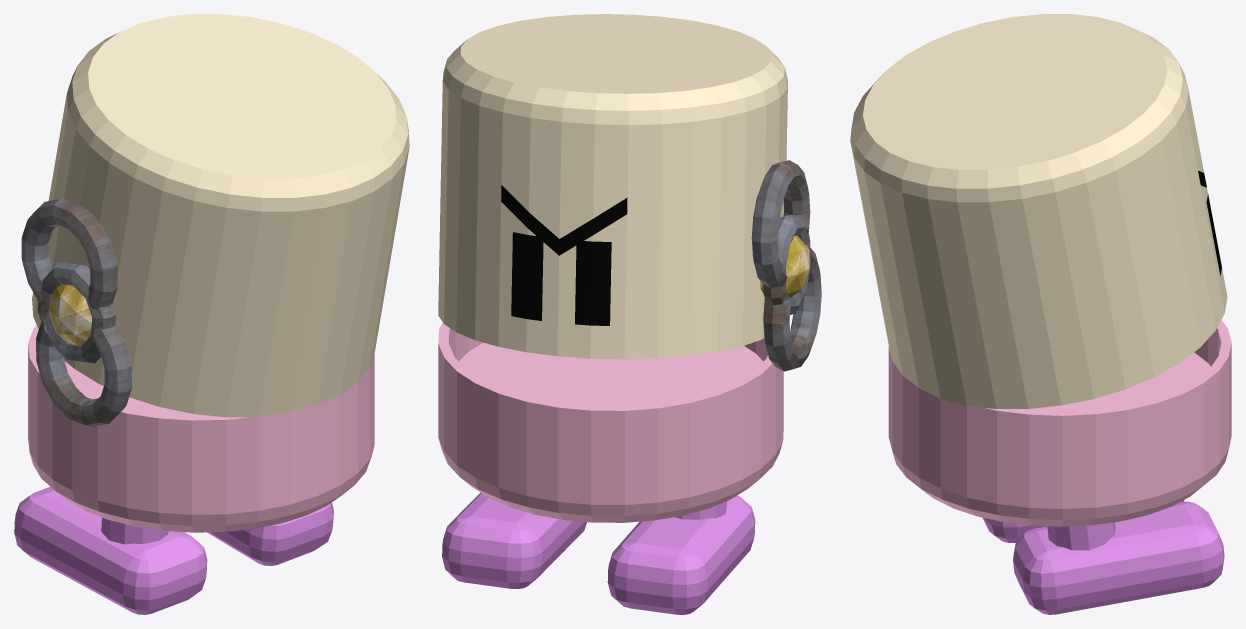
File: Toasters086.obj
The picture shows the model from 3 angles, left to right: view 1: azimuth 30°, elevation 25°; view 2: azimuth 150°, elevation 25°; view 3: azimuth 270°, elevation 25°; orthographic projection.
Visible parts, largest first — view 1: Head, Jaw, WindupKey, LeftLeg, RightLeg; view 2: Head, Jaw, LeftLeg, WindupKey, RightLeg; view 3: Head, Jaw, RightLeg, LeftLeg.
Part boxes in pixels (bbox=[...]): Head: bbox=[32, 14, 409, 417]; Jaw: bbox=[28, 325, 374, 532]; WindupKey: bbox=[21, 199, 132, 426]; LeftLeg: bbox=[14, 486, 207, 614]; RightLeg: bbox=[207, 502, 333, 565]; Head: bbox=[438, 14, 787, 359]; Jaw: bbox=[438, 322, 783, 522]; LeftLeg: bbox=[607, 495, 755, 614]; WindupKey: bbox=[751, 160, 821, 371]; RightLeg: bbox=[442, 492, 586, 588]; Head: bbox=[850, 14, 1227, 408]; Jaw: bbox=[888, 320, 1231, 526]; RightLeg: bbox=[1013, 501, 1224, 614]; LeftLeg: bbox=[982, 500, 1184, 542].
Size of the model in its own units: 113 by 163 by 111.
Materials: 6 (2 with a texture image).
